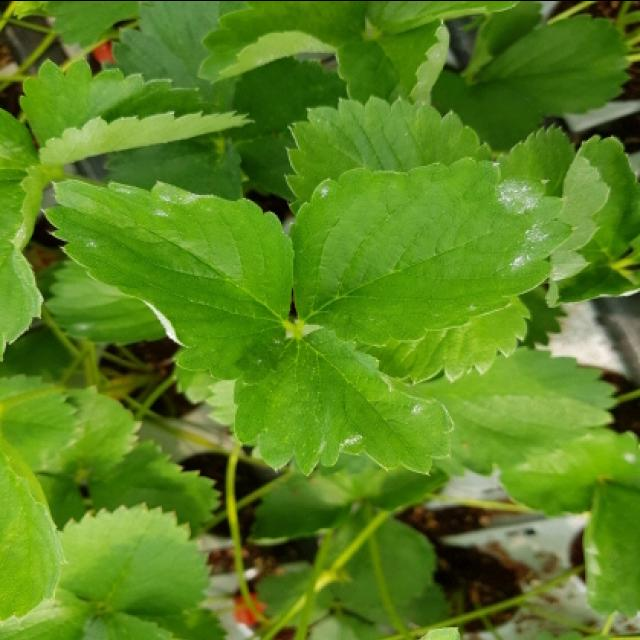Powdery Mildew Leaf: (287, 154, 576, 349), (39, 175, 297, 385), (231, 328, 454, 480)
